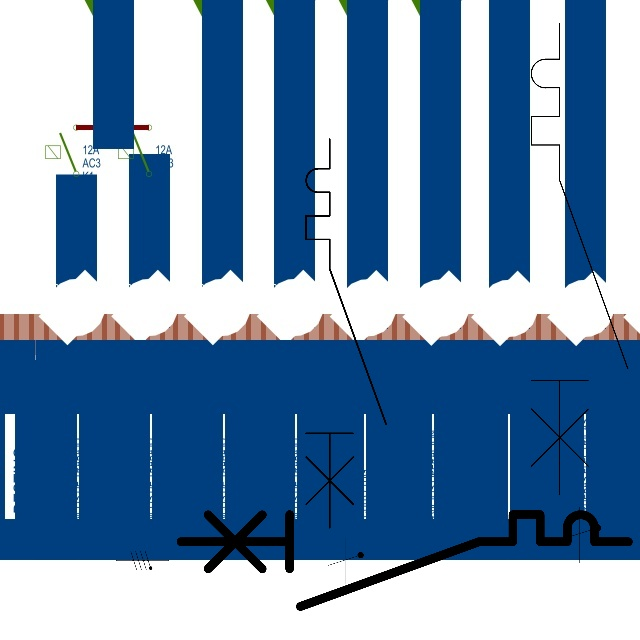interruptor_termomagnetico: (519, 11, 640, 507), (169, 503, 639, 618), (296, 129, 396, 538)
